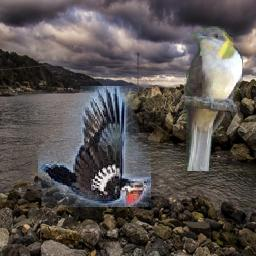Cuckoo: (181, 27, 243, 172)
Woodpecker: (39, 87, 152, 208)
